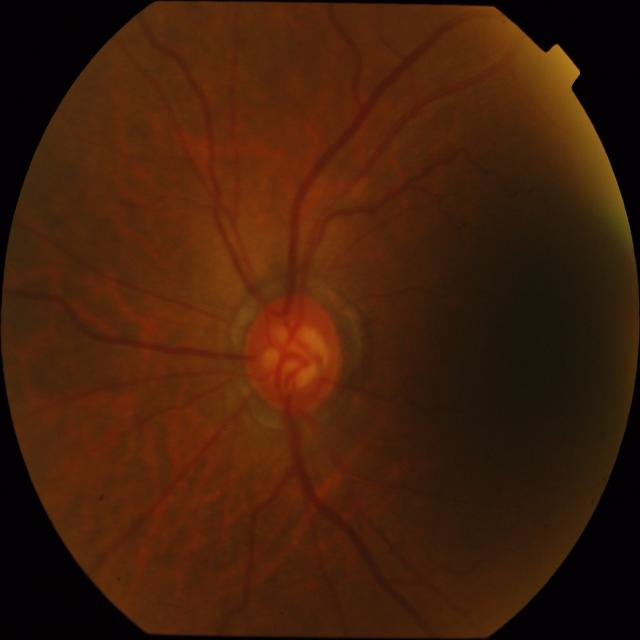OC: (260, 322, 327, 390)
OD: (242, 295, 344, 414)
